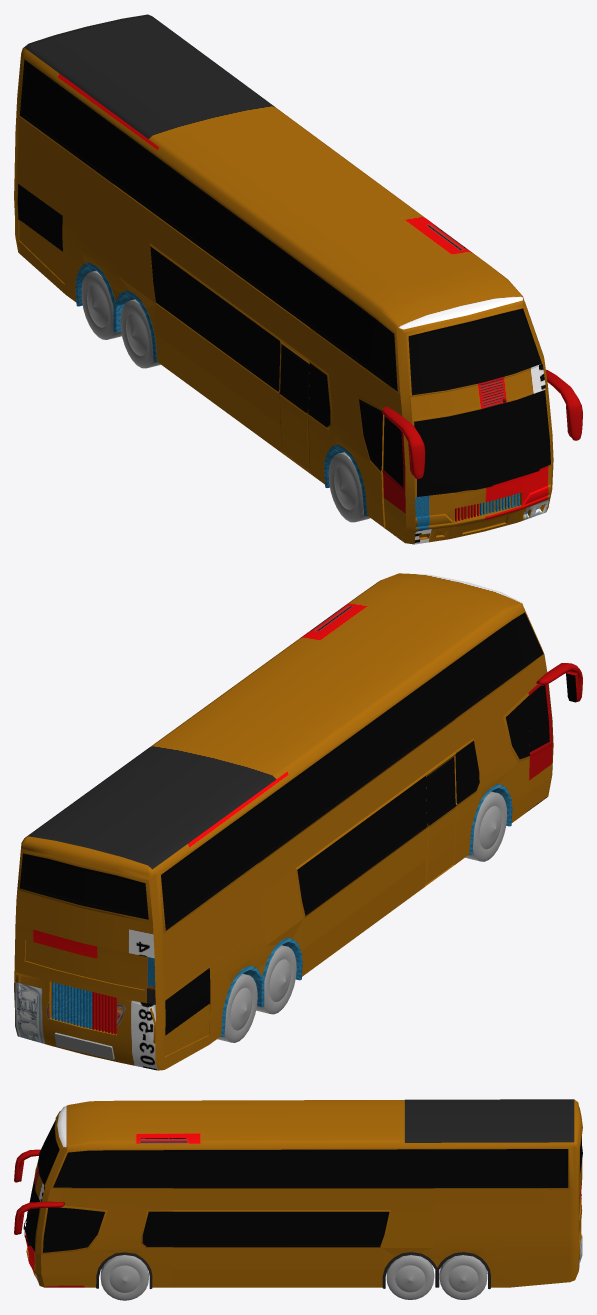
File: Bus_10.fbx
3 views of the same model, one above another, from view 1: azimuth 30°, elevation 25°; view 2: azimuth 150°, elevation 25°; view 3: azimuth 270°, elevation 25° (orthographic). The views are drawn at different scales.
Visible parts, largest first — view 1: Bus_10body, Bus_10_Glass, FR, RR, CR, Bus_10_Door, BusModifyed:Bus_DoorGlass; view 2: Bus_10body, Bus_10_Glass, FR, CR, RR, Bus_10_Door, BusModifyed:Bus_DoorGlass, NumberPlate; view 3: Bus_10body, Bus_10_Glass, FL, RL, CL.
Part boxes in pixels (x1,y1,x2,y2): Bus_10body: (14,14,582,544); Bus_10_Glass: (19,59,550,496); FR: (328,452,369,522); RR: (81,270,121,339); CR: (120,299,160,368); Bus_10_Door: (382,425,405,541); BusModifyed:Bus_DoorGlass: (383,416,403,487); Bus_10body: (14,573,582,1070); Bus_10_Glass: (20,612,543,930); FR: (465,791,507,861); CR: (256,945,296,1014); RR: (217,974,257,1042); Bus_10_Door: (527,684,552,810); BusModifyed:Bus_DoorGlass: (528,685,549,752); NumberPlate: (54,1032,114,1059); Bus_10body: (14,1099,582,1289); Bus_10_Glass: (25,1120,582,1252); FL: (100,1255,148,1300); RL: (439,1255,487,1299); CL: (386,1255,434,1299).
Bounding box in the file's own units: 271 × 353 × 1137.
